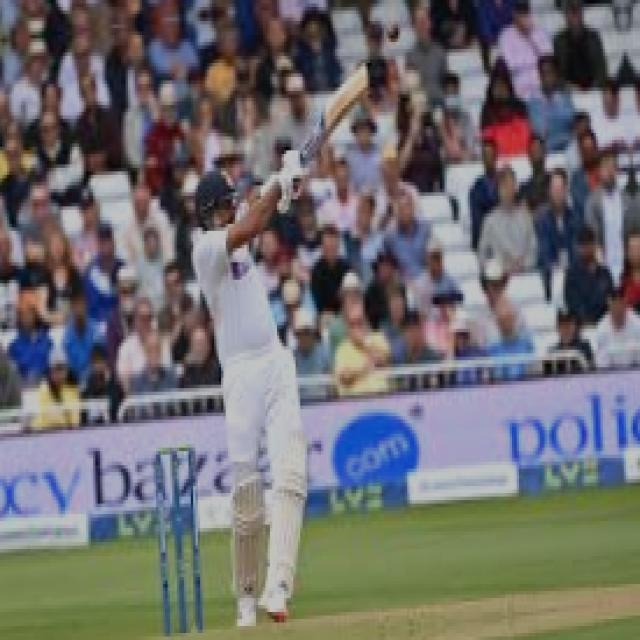toe: (358, 64, 371, 99)
